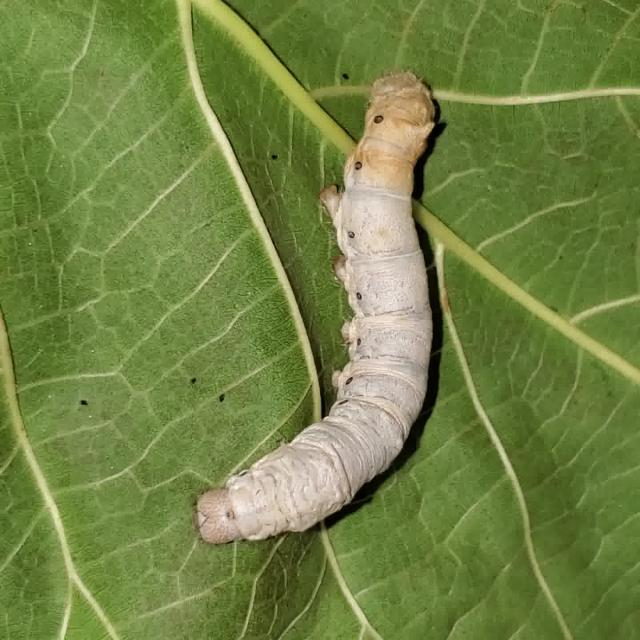Grasserie: (183, 61, 451, 547)
